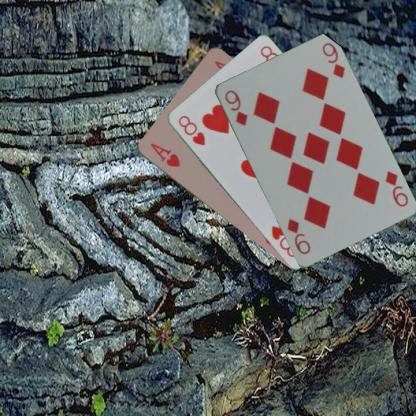8h: (175, 112, 206, 147)
9d: (382, 168, 409, 209), (222, 87, 249, 127)
Ah: (147, 140, 181, 169)
